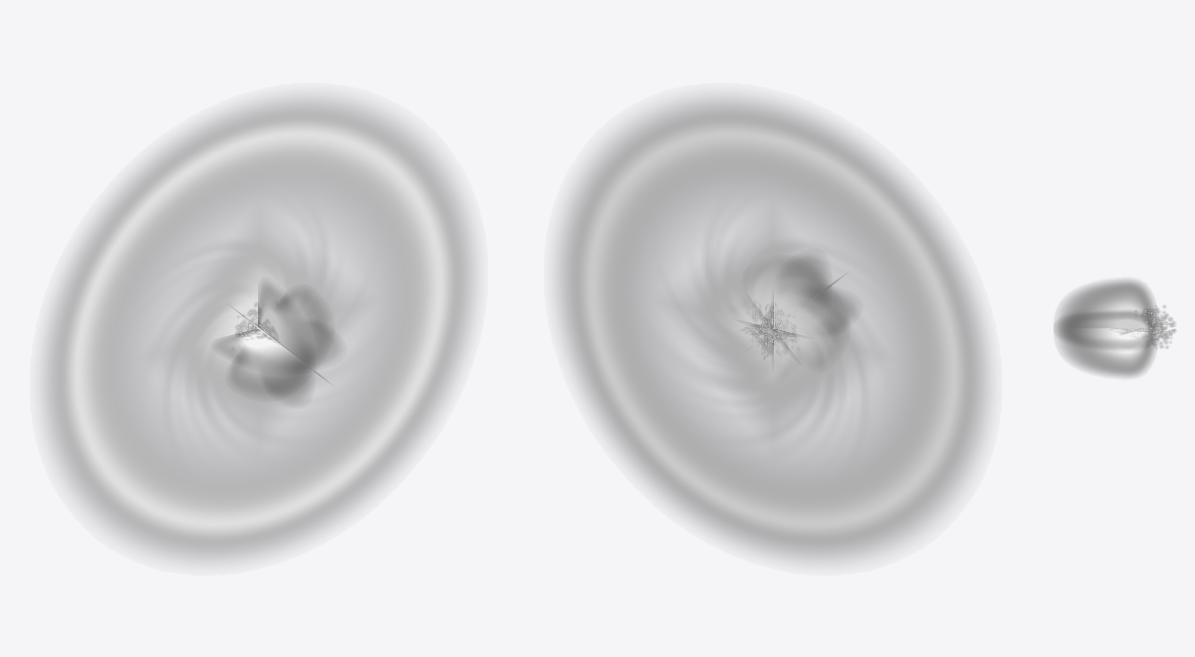
File: si_eos_r020.glb
The picture shows the model from 3 angles, left to right: view 1: azimuth 30°, elevation 25°; view 2: azimuth 150°, elevation 25°; view 3: azimuth 270°, elevation 25°; orthographic projection. The views are drawn at different scales.
Parts seen in each view (by area): view 1: layer_03_si_est_0402, layer_01_si_est_0103; view 2: layer_03_si_est_0402, layer_01_si_est_0103, layer_02_si_est_0200; view 3: layer_01_si_est_0103, layer_02_si_est_0200.
Boxes of the visible parts, left/top/right/bottom form: layer_03_si_est_0402: left=43, top=97, right=474, bottom=561; layer_01_si_est_0103: left=216, top=282, right=339, bottom=401; layer_03_si_est_0402: left=557, top=97, right=988, bottom=561; layer_01_si_est_0103: left=747, top=257, right=852, bottom=358; layer_02_si_est_0200: left=742, top=302, right=799, bottom=358; layer_01_si_est_0103: left=1054, top=280, right=1157, bottom=376; layer_02_si_est_0200: left=1131, top=306, right=1175, bottom=348.
Bounding box in the file's own units: 160 × 160 × 45.5.
Materials: 5 (5 with a texture image).
